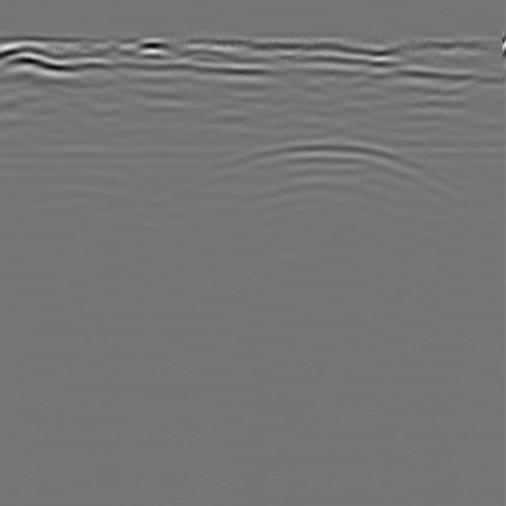hyperbola: (158, 130, 479, 254)
